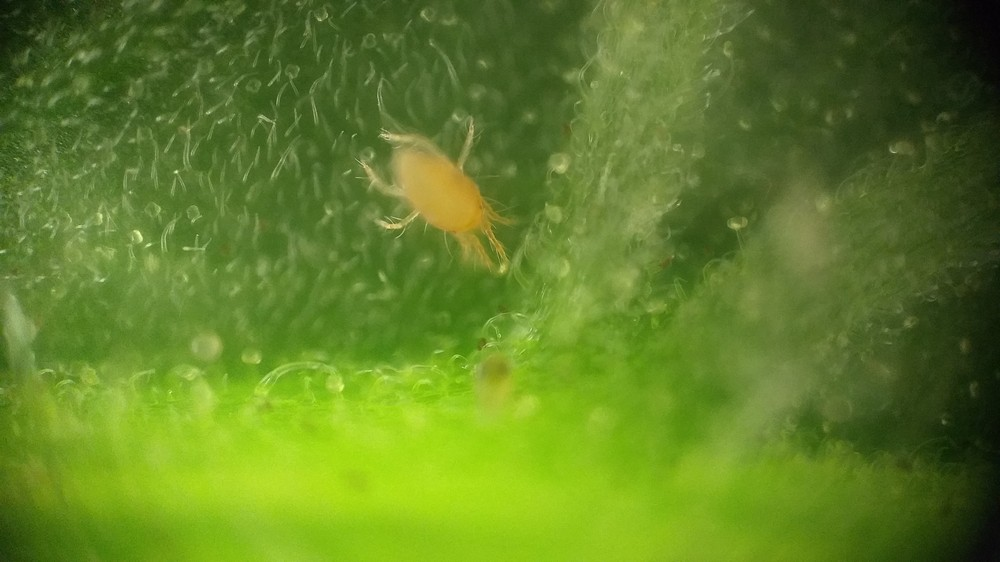Aracnido Rojo: (347, 111, 536, 295)
